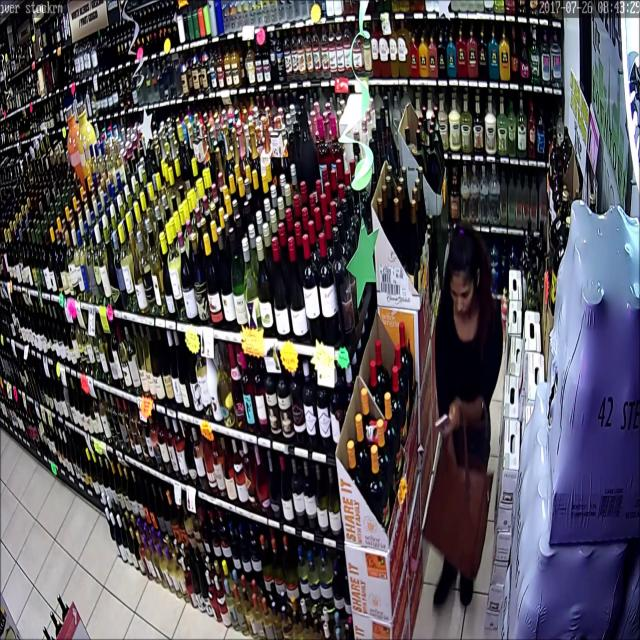normal: (403, 195, 524, 610)
